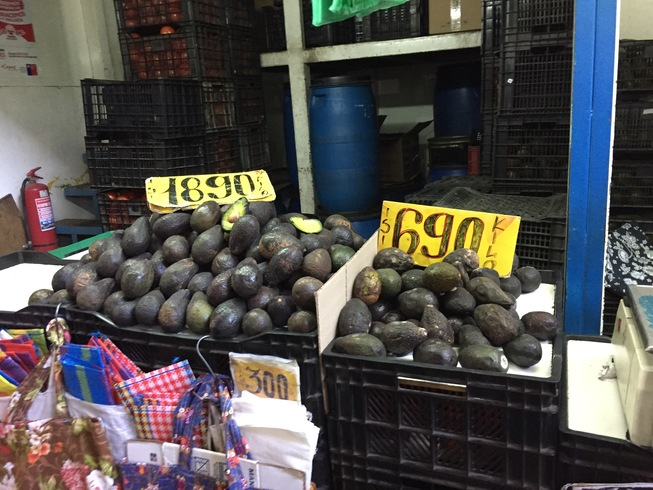precio: (379, 196, 524, 287), (145, 166, 275, 215), (228, 349, 307, 412)
